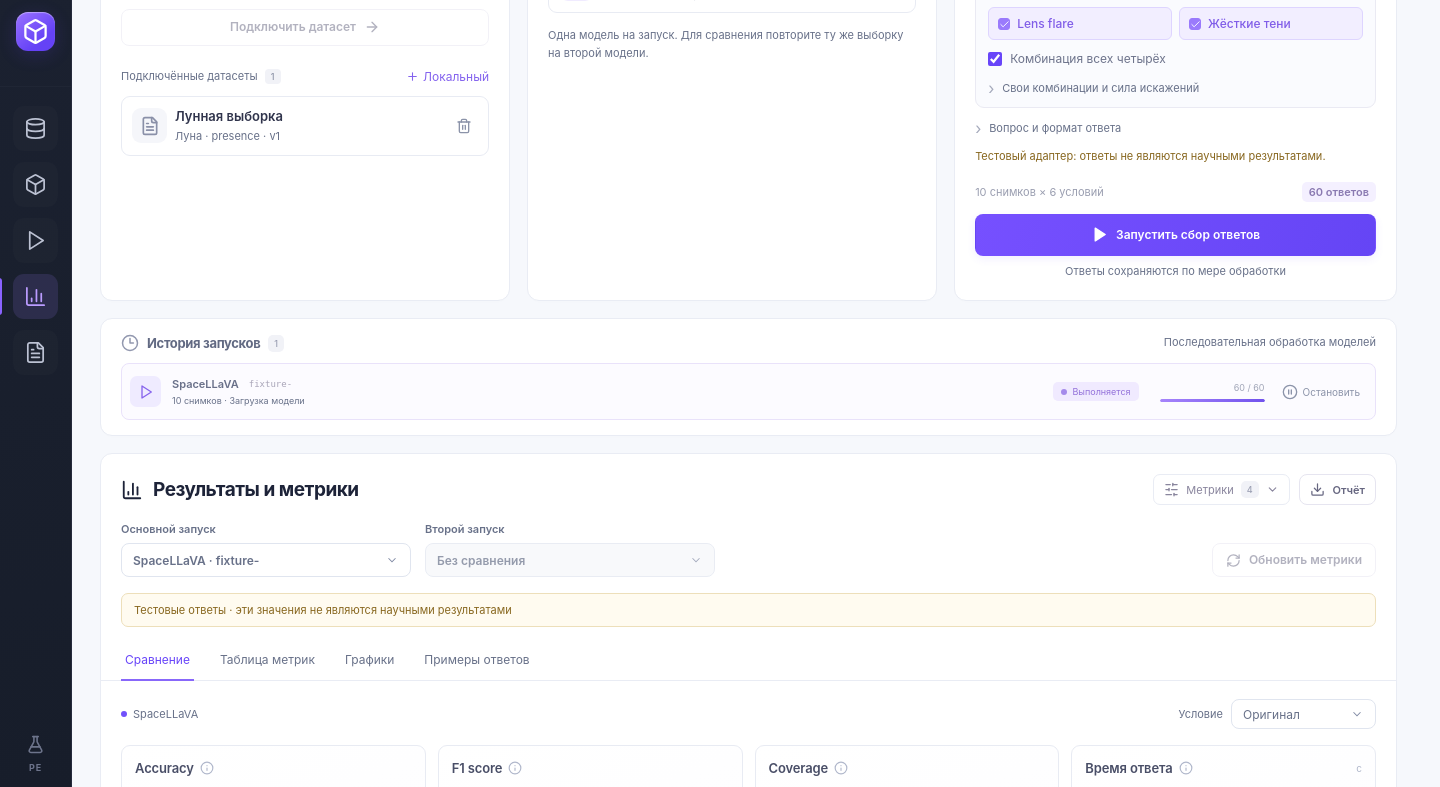
Test: evaluation workspace › waits for running cancellation without offering a duplicate stop
The image size is (1440, 787).
(page scrolled)
What coordinates should you click on to do the following:
click the button with aria-label "Остановить запуск fixture-"
I would click on:
 (1321, 392)
Its box is [1274, 377, 1367, 406].
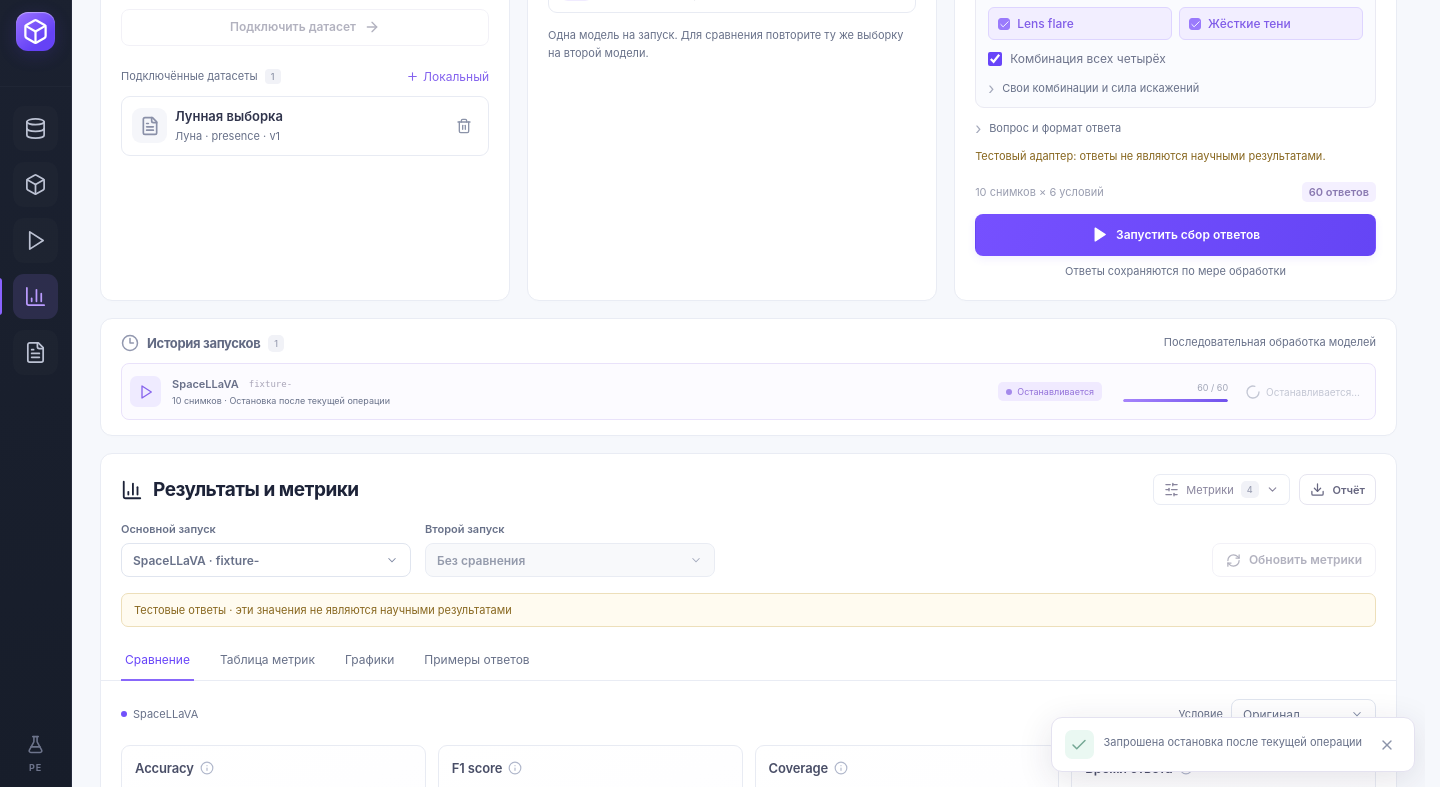
Now the text "Запрошена остановка после текущей операции" is shown, box [1104, 730, 1362, 753]
Now the button with aria-label "Остановить запуск fixture-" is disabled, box [1238, 377, 1367, 406]
